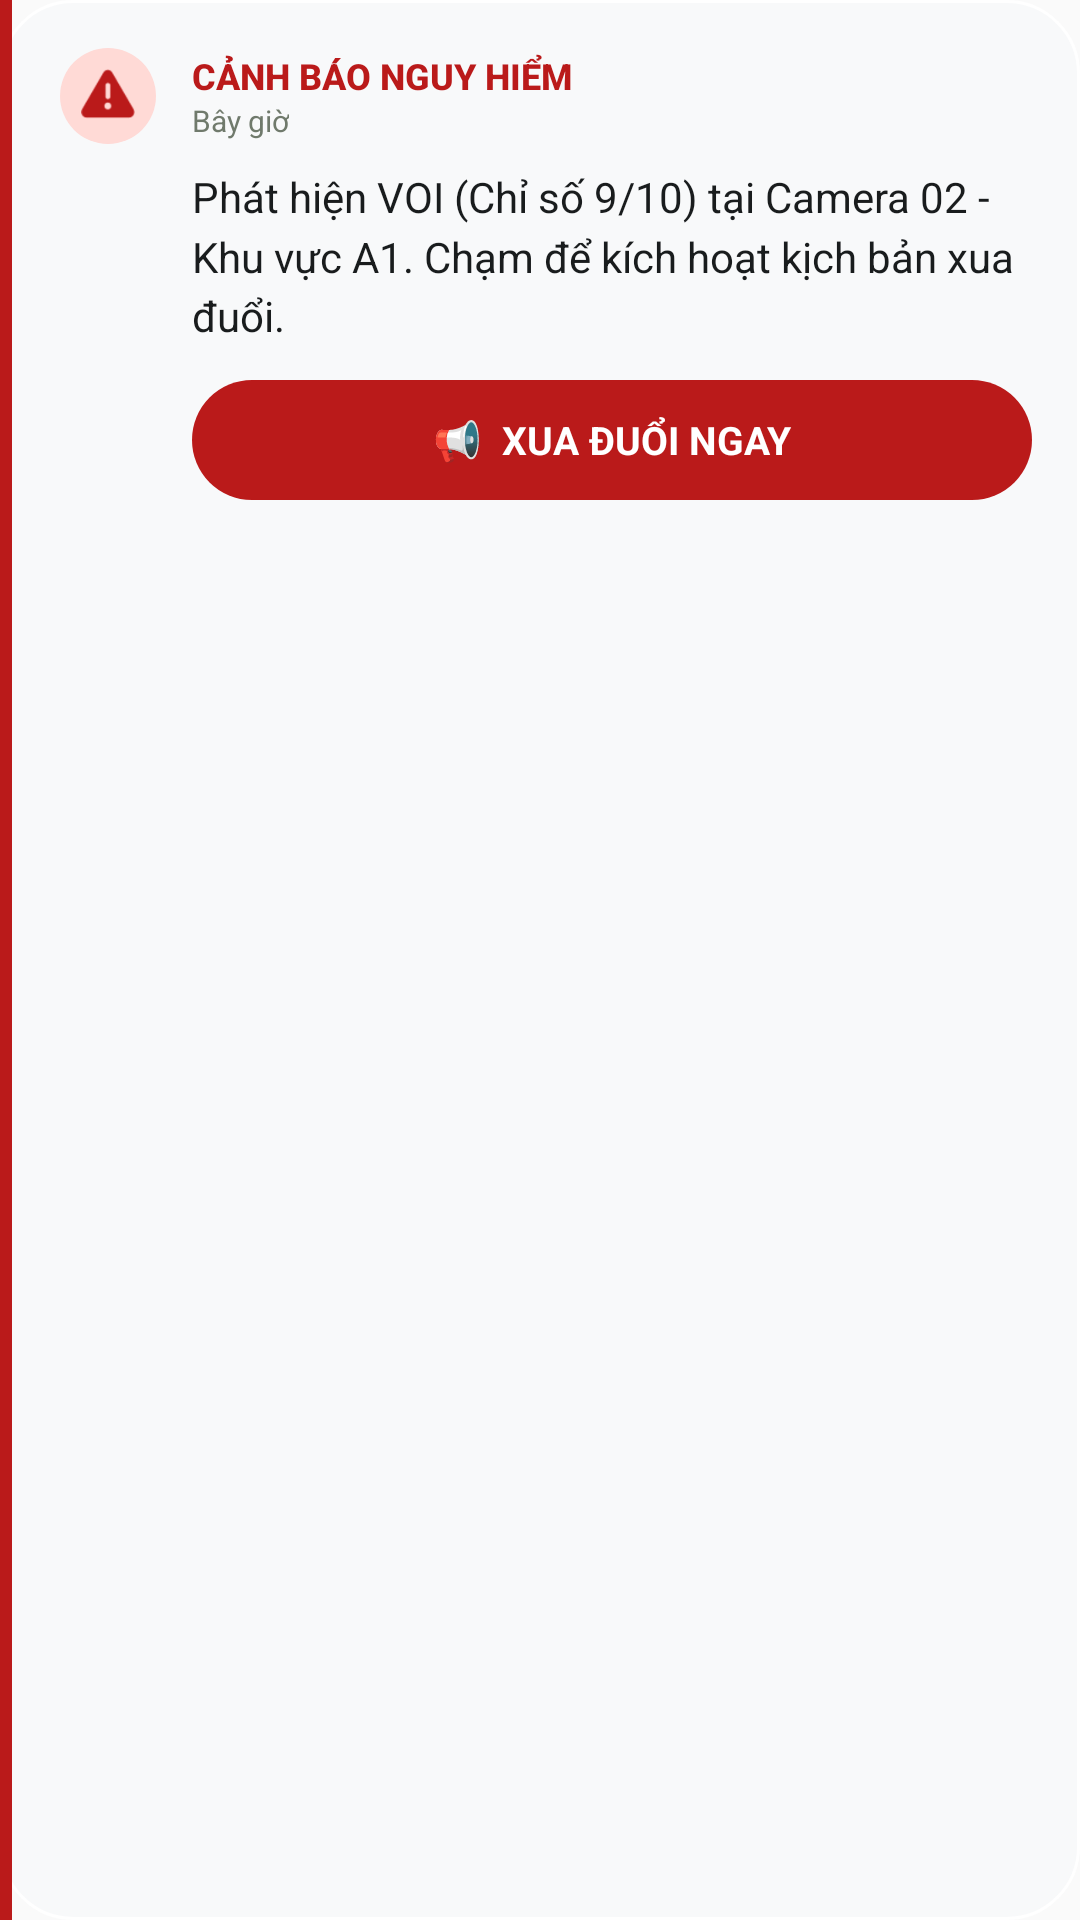

Where to tap for icons on this 1080×1920 app screen, as [x,y]:
alert: [108,93]
